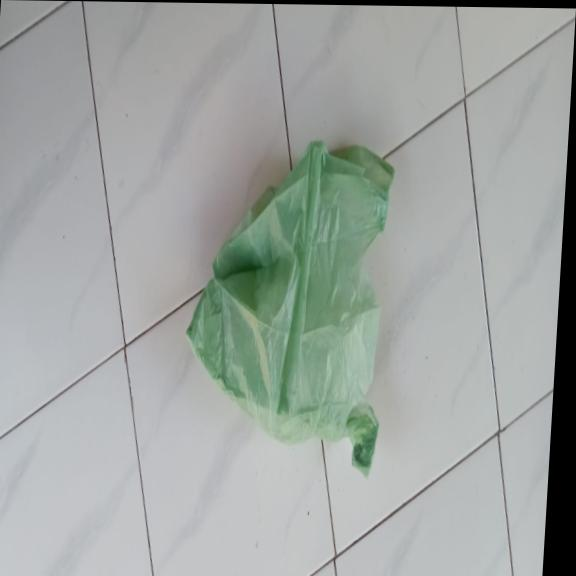Plastik: (175, 140, 395, 472)
